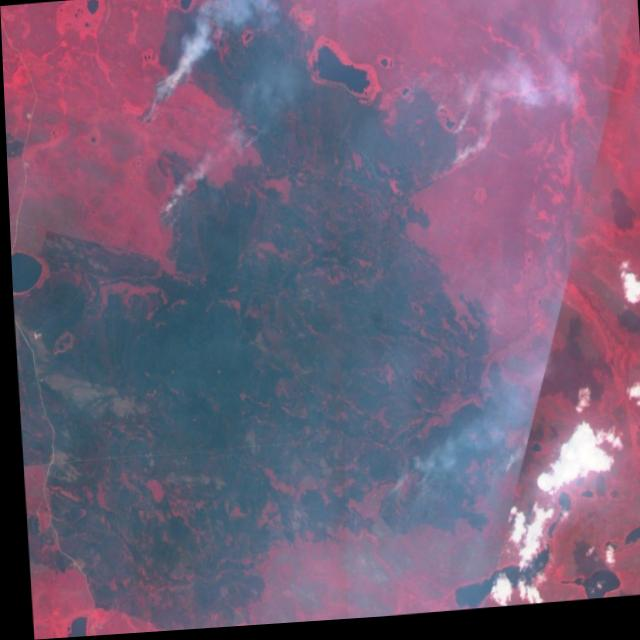fire: (402, 436, 443, 492)
